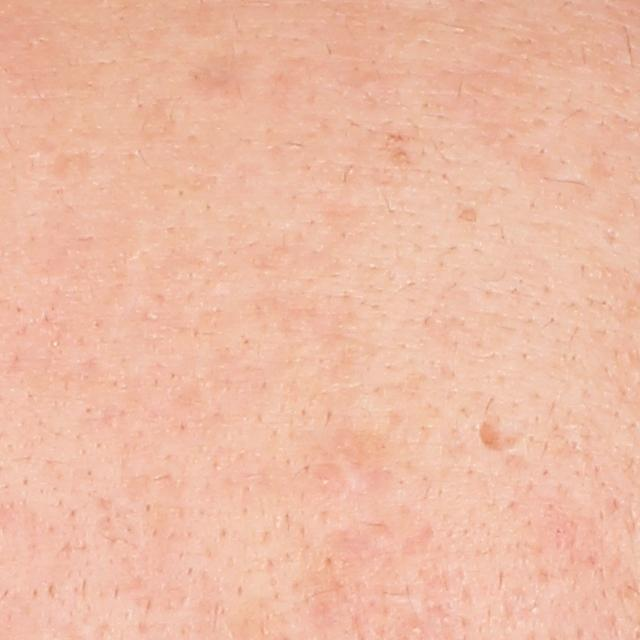atrophic_scar: (478, 404, 534, 454)
